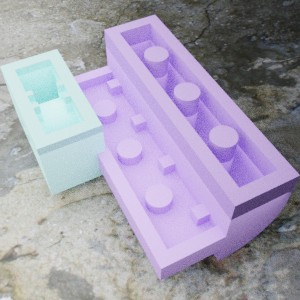lego: (57, 14, 300, 280), (0, 49, 108, 195)
